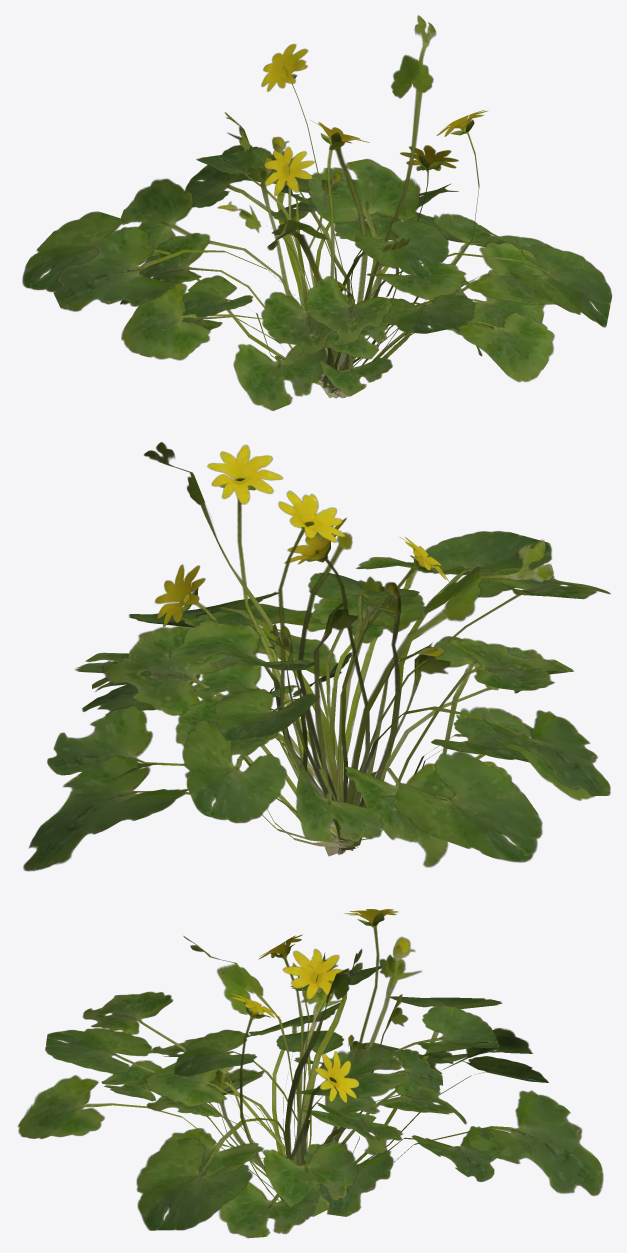
File: celandine.glb
3 views of the same model, one above another, from view 1: azimuth 30°, elevation 25°; view 2: azimuth 150°, elevation 25°; view 3: azimuth 270°, elevation 25° (orthographic). The views are drawn at different scales.
Parts seen in each view (by area): view 1: celandine_01_b_LOD1, celandine_01_a_LOD1, celandine_01_c_LOD1, celandine_01_d_LOD1, celandine_01_e_LOD1; view 2: celandine_01_b_LOD1, celandine_01_c_LOD1, celandine_01_a_LOD1, celandine_01_d_LOD1, celandine_01_e_LOD1; view 3: celandine_01_b_LOD1, celandine_01_a_LOD1, celandine_01_c_LOD1, celandine_01_d_LOD1, celandine_01_e_LOD1.
Part boxes in pixels (box(x1,y1,x2,y2)): celandine_01_b_LOD1: box(22, 141, 554, 410); celandine_01_a_LOD1: box(53, 15, 611, 396); celandine_01_c_LOD1: box(121, 44, 552, 389); celandine_01_d_LOD1: box(120, 120, 556, 397); celandine_01_e_LOD1: box(182, 136, 545, 397); celandine_01_b_LOD1: box(23, 532, 610, 871); celandine_01_c_LOD1: box(47, 444, 595, 848); celandine_01_a_LOD1: box(82, 442, 610, 856); celandine_01_d_LOD1: box(155, 517, 551, 867); celandine_01_e_LOD1: box(102, 576, 512, 847); celandine_01_b_LOD1: box(18, 963, 603, 1216); celandine_01_a_LOD1: box(101, 936, 532, 1230); celandine_01_c_LOD1: box(145, 909, 499, 1238); celandine_01_d_LOD1: box(45, 949, 466, 1201); celandine_01_e_LOD1: box(136, 994, 548, 1200).
Size of the model in its own units: 0.2759 by 0.185 by 0.3106.
Materials: 1 (1 with a texture image).
